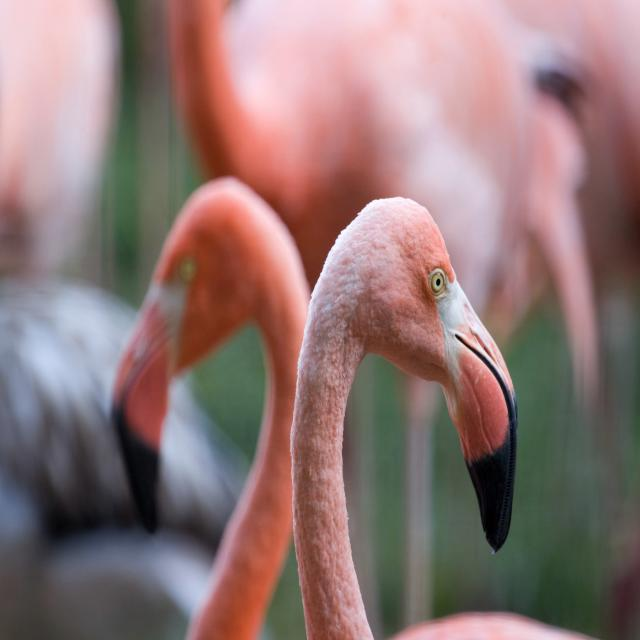flamingo: (291, 198, 518, 638)
